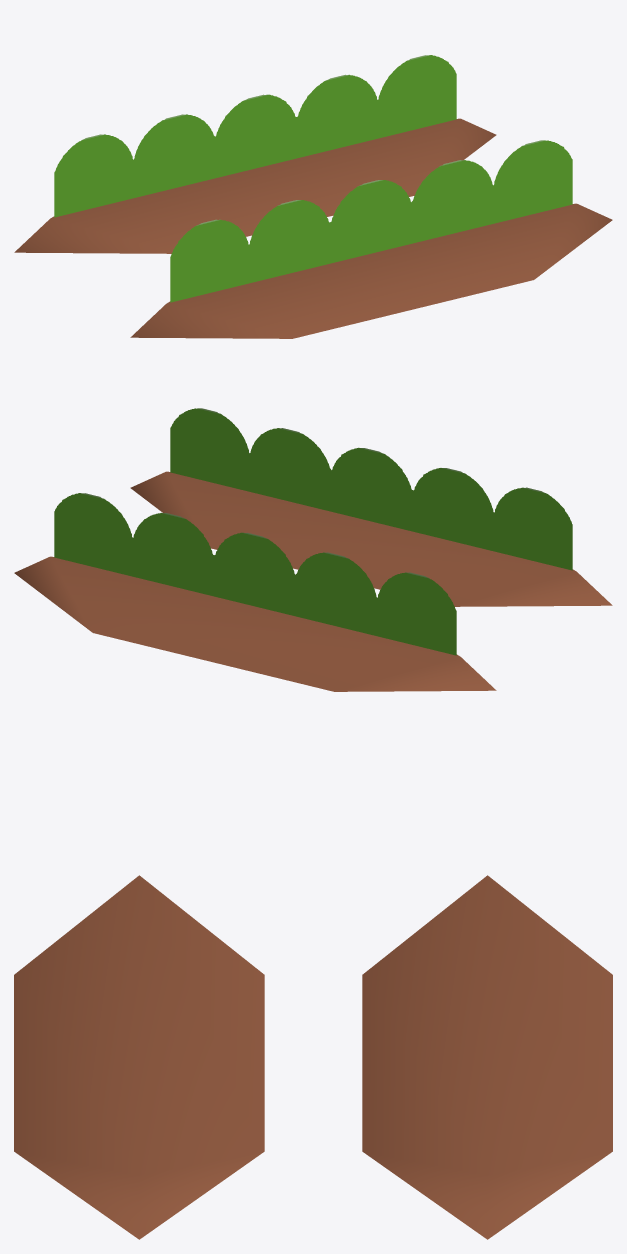
The model's file is Garden Bed.fbx.
The picture shows the model from 3 angles, top to bottom: view 1: azimuth 30°, elevation 25°; view 2: azimuth 150°, elevation 25°; view 3: azimuth 270°, elevation 25°; orthographic projection. The views are drawn at different scales.
Parts seen in each view (by area): view 1: Ground_1, Grass_2, Grass_1, Ground_2; view 2: Ground_2, Grass_2, Grass_1, Ground_1; view 3: Ground_1, Ground_2.
Part boxes in pixels (x1=…): Ground_1: x1=130, y1=203, x2=612, y2=338; Grass_2: x1=54, y1=55, x2=456, y2=217; Grass_1: x1=170, y1=140, x2=572, y2=302; Ground_2: x1=14, y1=118, x2=496, y2=253; Ground_2: x1=14, y1=556, x2=496, y2=691; Grass_2: x1=54, y1=493, x2=456, y2=655; Grass_1: x1=170, y1=408, x2=572, y2=570; Ground_1: x1=130, y1=471, x2=612, y2=606; Ground_1: x1=14, y1=875, x2=264, y2=1239; Ground_2: x1=362, y1=875, x2=612, y2=1239.
Bounding box in the file's own units: 1.2 × 0.3103 × 0.86.
